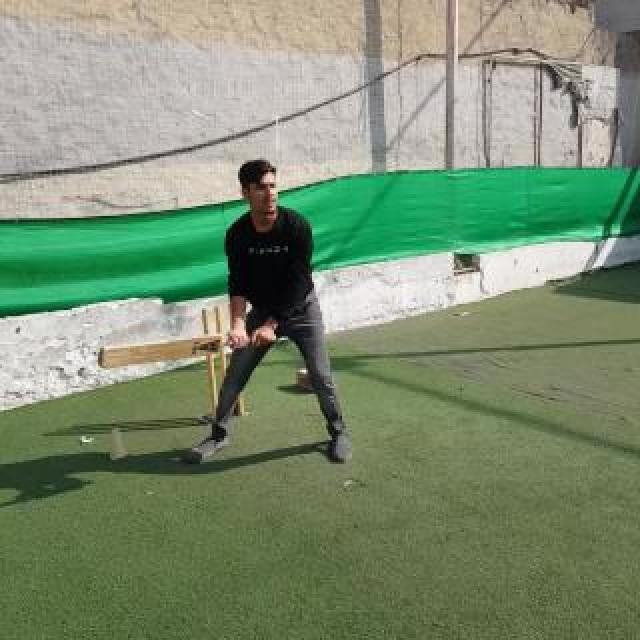bat: (98, 334, 276, 368)
